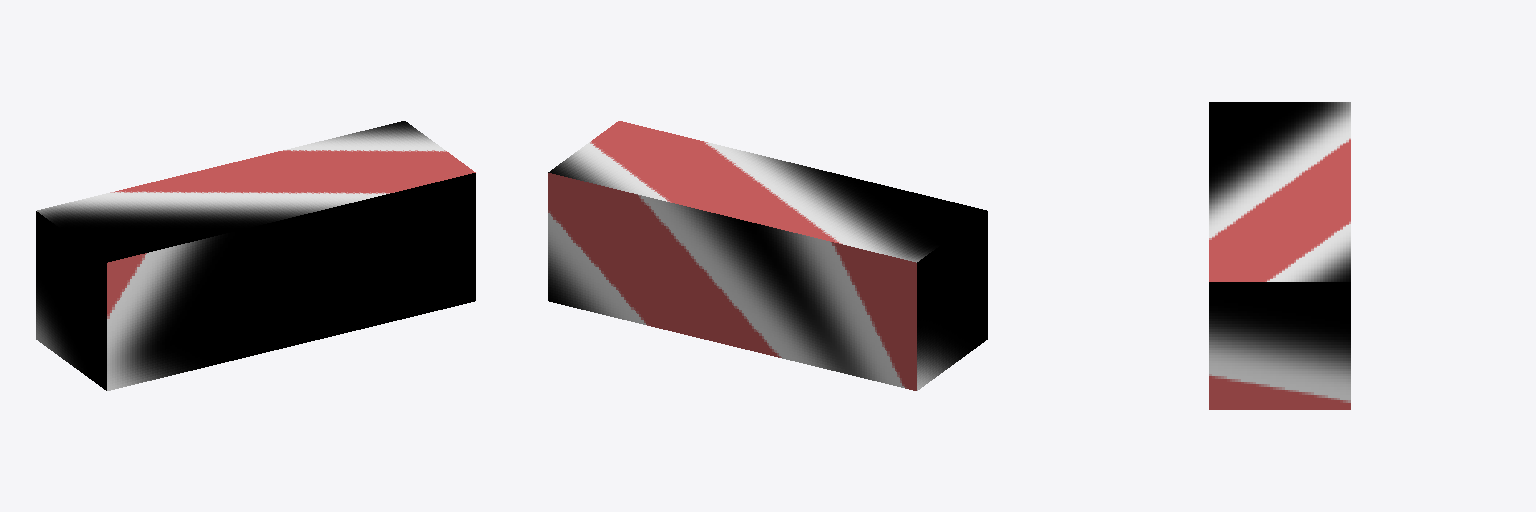
3 renders of one model, left to right at view 1: azimuth 30°, elevation 25°; view 2: azimuth 150°, elevation 25°; view 3: azimuth 270°, elevation 25°, orthographic.
Visible parts, largest first — view 1: 腰; view 2: 腰; view 3: 腰.
Part boxes in pixels (x1,y1,x2,y2): 腰: (36,121,475,390); 腰: (548,121,987,390); 腰: (1209,102,1350,409).
Size of the model in its own units: 9 by 3 by 3.
Materials: 1 (1 with a texture image).